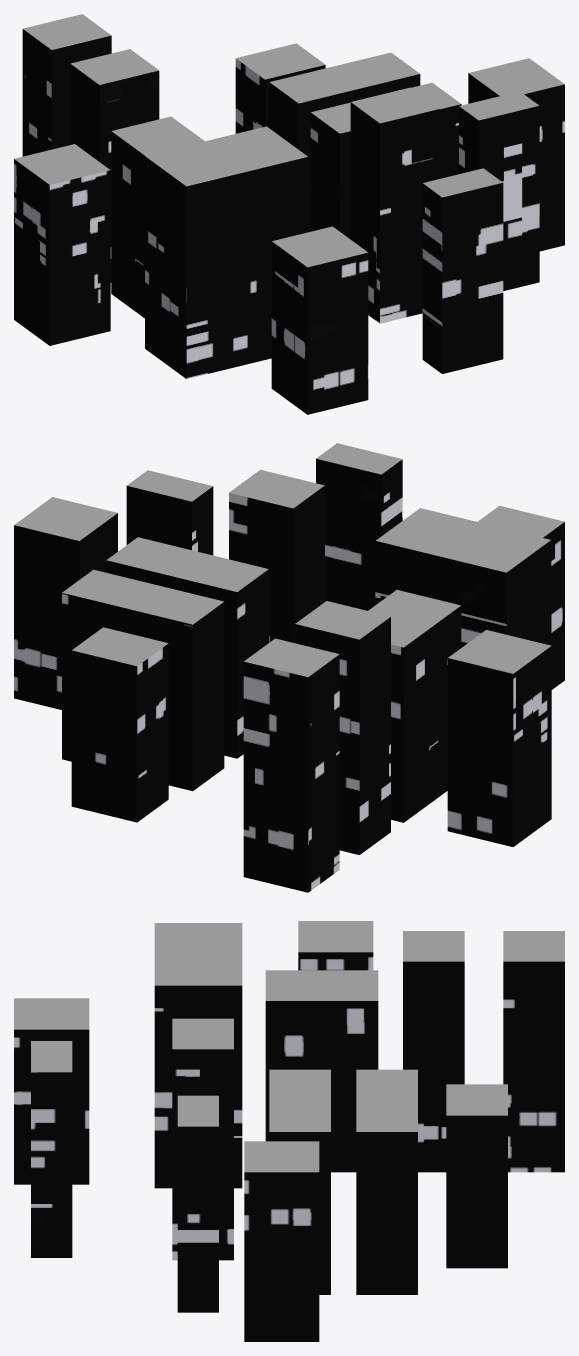
File: Downtown04.fbx
The picture shows the model from 3 angles, top to bottom: view 1: azimuth 30°, elevation 25°; view 2: azimuth 150°, elevation 25°; view 3: azimuth 270°, elevation 25°; orthographic projection. The views are drawn at different scales.
Visible parts, largest first — view 1: Downtown04; view 2: Downtown04; view 3: Downtown04.
Part boxes in pixels (box(x1,y1,x2,y2)): Downtown04: box(14, 14, 564, 414); Downtown04: box(14, 443, 564, 892); Downtown04: box(14, 921, 564, 1341).
Size of the model in its own units: 1.59 by 0.6196 by 1.47.
2 materials, 1 textured.
